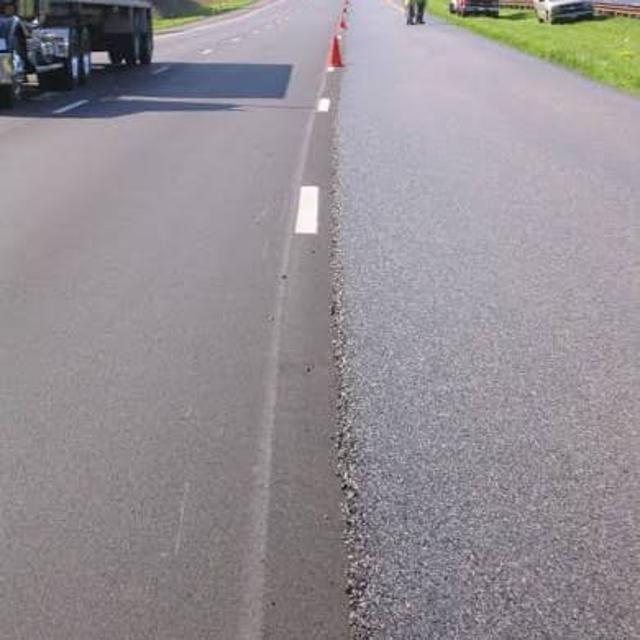Sambungan: (325, 0, 640, 640)
